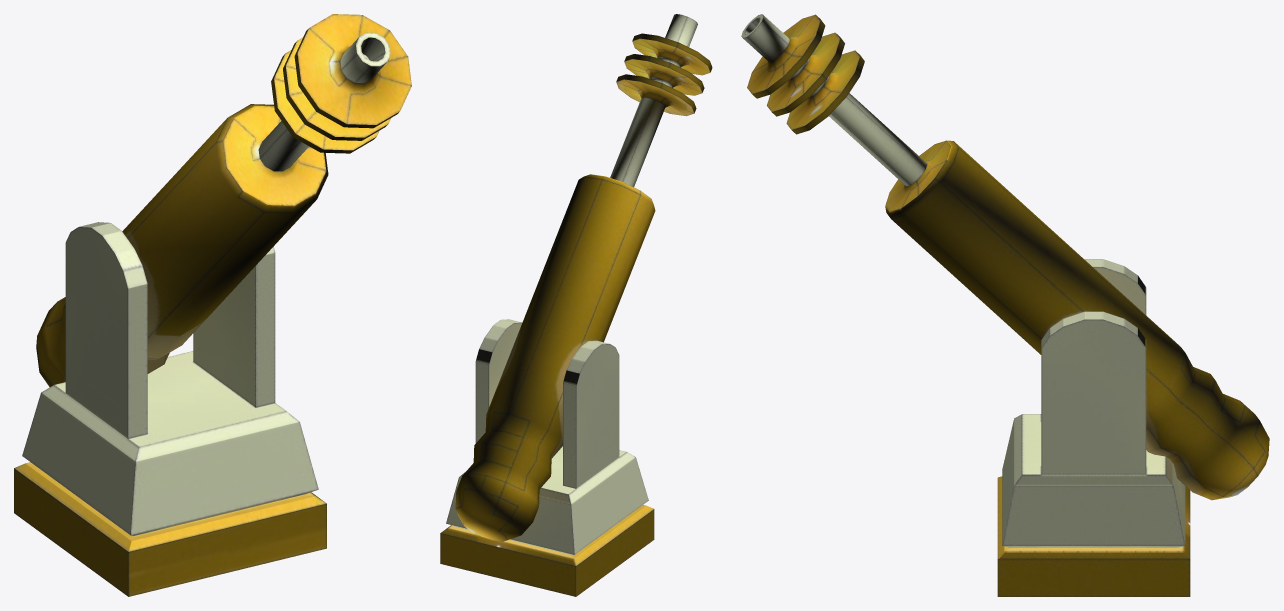
The model's file is autogun.obj.
The picture shows the model from 3 angles, left to right: view 1: azimuth 30°, elevation 25°; view 2: azimuth 150°, elevation 25°; view 3: azimuth 270°, elevation 25°; orthographic projection. The views are drawn at different scales.
Parts seen in each view (by area): view 1: Box031; view 2: Box031; view 3: Box031.
Boxes of the visible parts, x1,y1,x2,y2 form: Box031: (14, 14, 411, 596); Box031: (440, 14, 712, 596); Box031: (741, 14, 1269, 596).
Bounding box in the file's own units: 13.81 × 42.72 × 37.86.
1 material, 1 textured.
